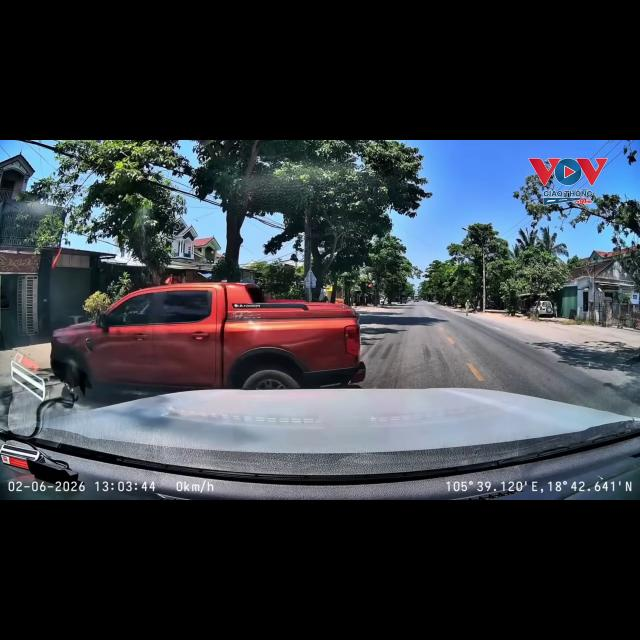car: (51, 283, 365, 389), (529, 301, 553, 316)
